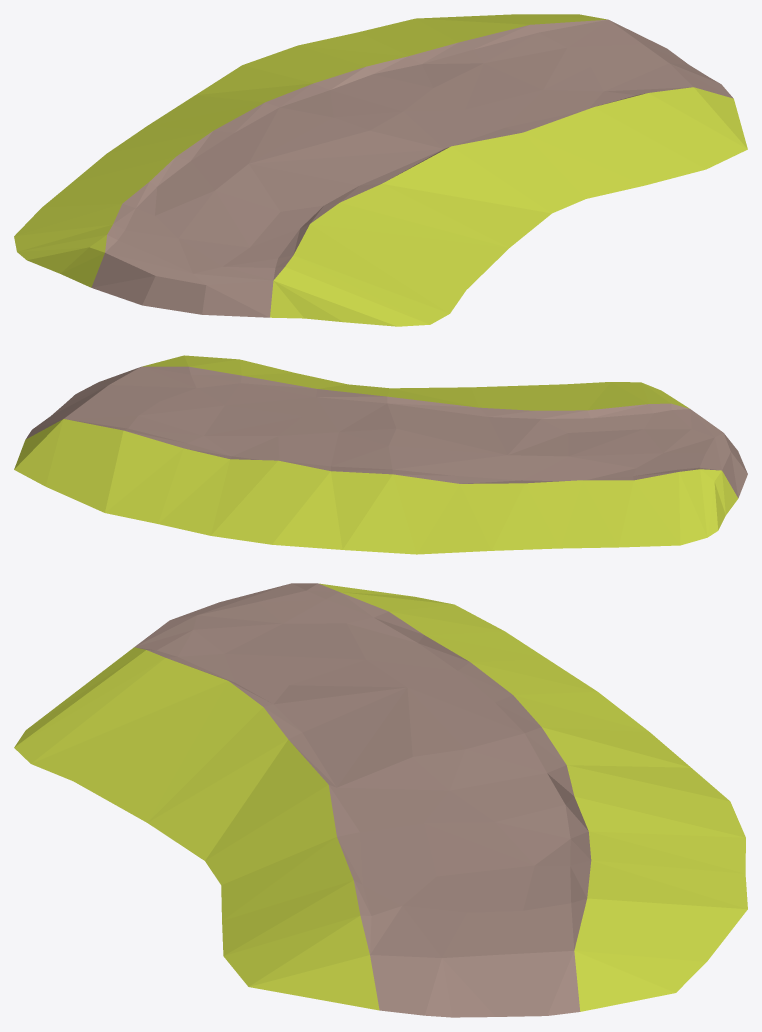
File: Road_011.glb
3 renders of one model, top to bottom at view 1: azimuth 30°, elevation 25°; view 2: azimuth 150°, elevation 25°; view 3: azimuth 270°, elevation 25°, orthographic. The views are drawn at different scales.
Parts seen in each view (by area): view 1: Road_011; view 2: Road_011; view 3: Road_011.
Boxes of the visible parts, x1,y1,x2,y2 form: Road_011: (14,14,747,326); Road_011: (14,355,747,554); Road_011: (14,583,747,1017).
Size of the model in its own units: 52.57 by 3.34 by 39.76.
Materials: 1 (1 with a texture image).
